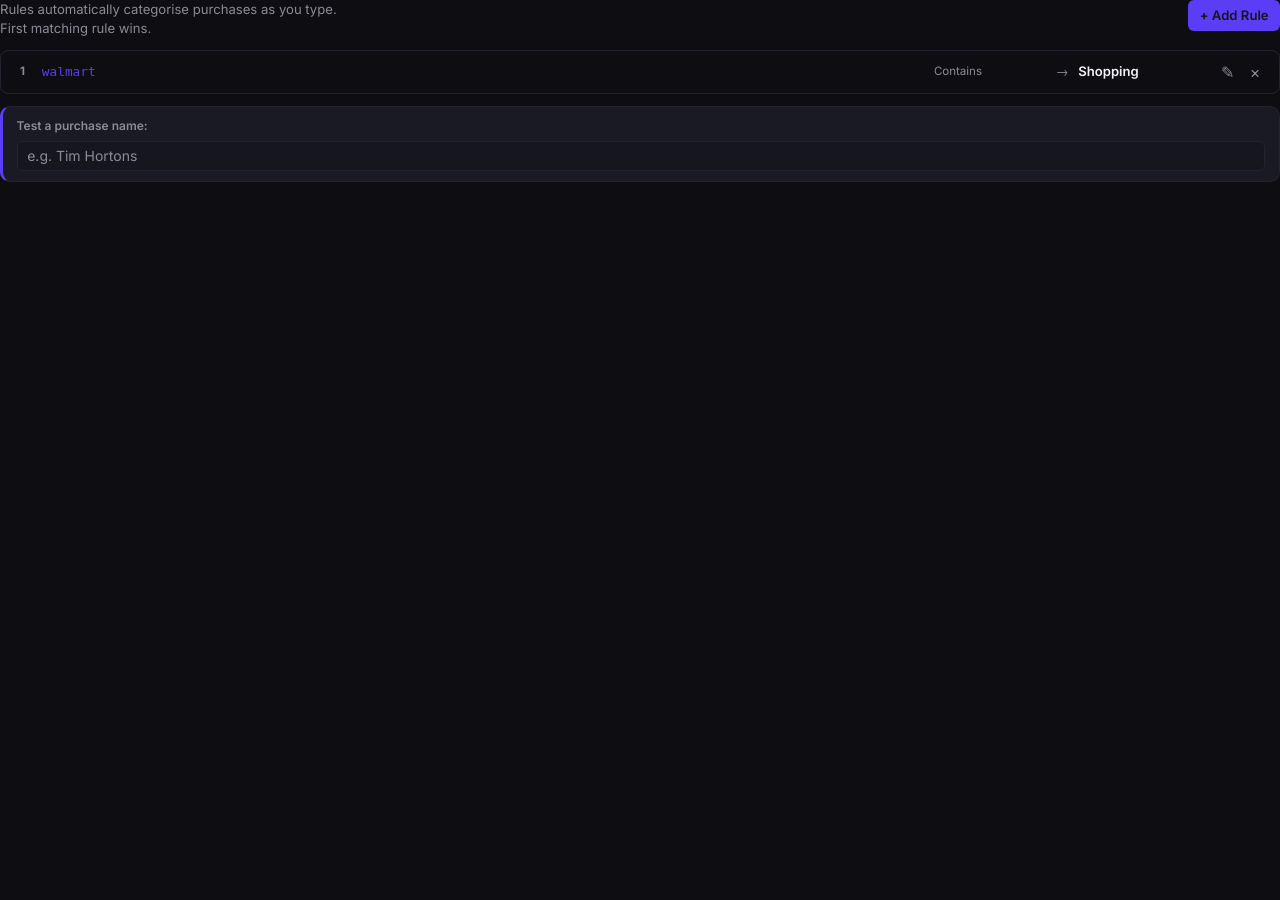
Scenario: RulesEngine › opens edit modal when edit button is clicked
Click the button named "Edit rule": (1228, 72) [1216,60,1240,84]
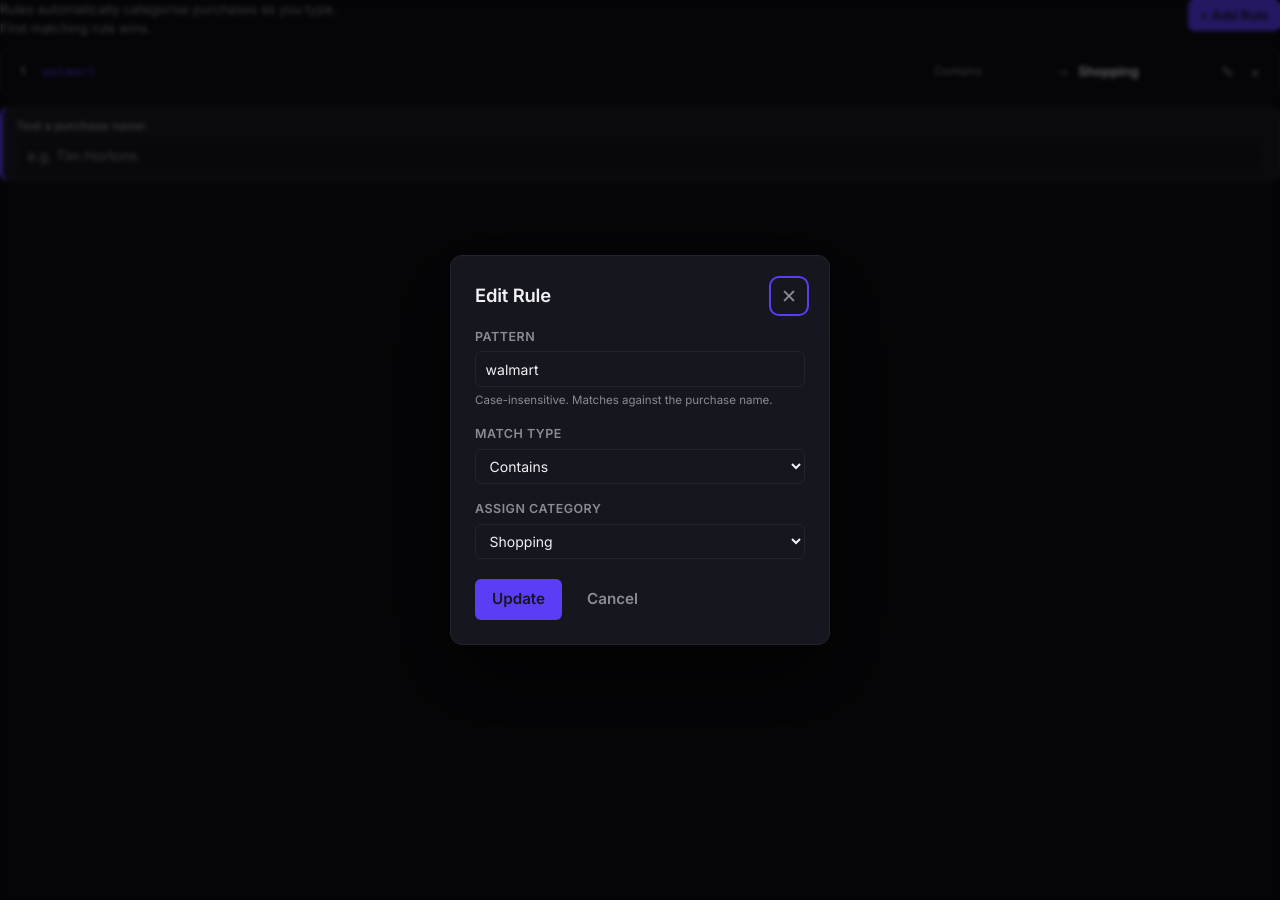
Check: the dialog with class "base-modal" shows "Edit Rule", box [475,284,551,306]
